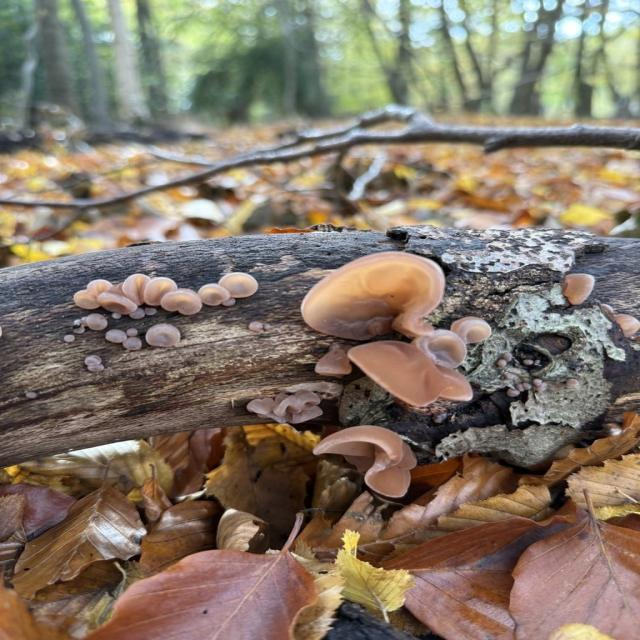Fase Muda: (297, 247, 448, 340), (346, 339, 476, 404), (309, 426, 422, 498), (247, 390, 326, 426), (412, 326, 468, 368), (451, 316, 492, 344), (316, 349, 353, 378)
primordia: (599, 303, 640, 337), (159, 288, 203, 316), (97, 286, 138, 315), (563, 273, 596, 307), (142, 277, 179, 307), (218, 272, 259, 299), (124, 272, 153, 306), (144, 322, 182, 346), (198, 282, 230, 307), (86, 278, 114, 302), (74, 288, 102, 310), (85, 312, 108, 331), (105, 328, 128, 344), (123, 336, 143, 352), (128, 308, 146, 320), (84, 355, 102, 366), (248, 321, 263, 332), (85, 364, 105, 372), (125, 327, 140, 337), (23, 391, 39, 400), (220, 298, 237, 306), (64, 333, 76, 344), (566, 378, 579, 388), (506, 388, 520, 397), (144, 307, 158, 315), (498, 358, 508, 368), (503, 352, 513, 362), (264, 322, 274, 331), (111, 311, 122, 319), (533, 378, 543, 386), (522, 382, 532, 390), (516, 382, 524, 392), (524, 359, 534, 366), (504, 373, 515, 379), (535, 359, 541, 367)
